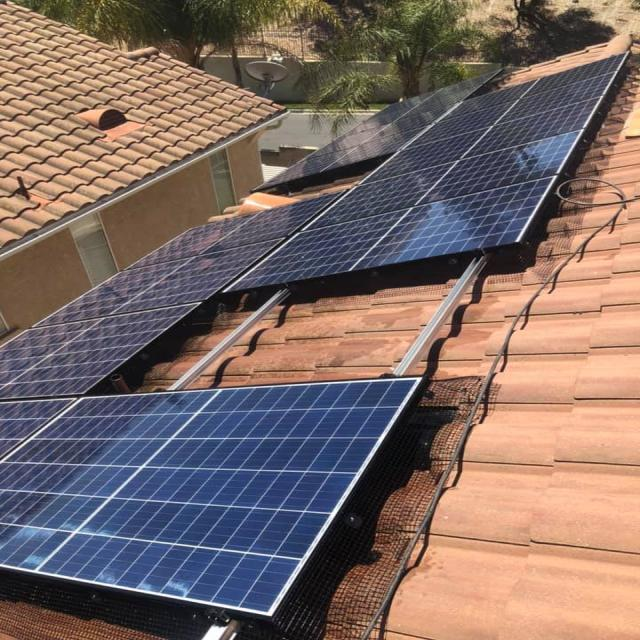clean-solar-panel: (2, 378, 420, 616), (228, 55, 627, 291), (2, 195, 337, 400), (255, 72, 500, 195), (0, 399, 72, 454)
